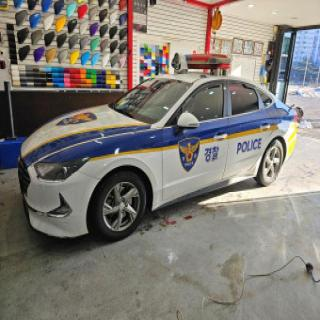Police_car: (17, 52, 297, 246)
